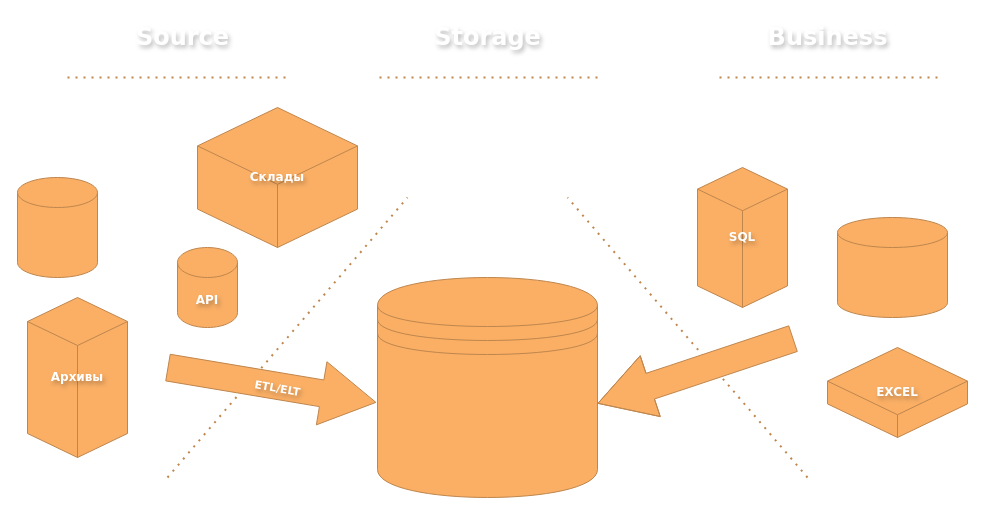
Some shapes in this 985 by 515 pixel diagram are drawn without their labels. Each missing label, with the box of its shape:
Business Intelligence: (836, 216, 948, 318)
CRM: (16, 176, 98, 278)
Хранилище данных: (376, 276, 598, 498)
